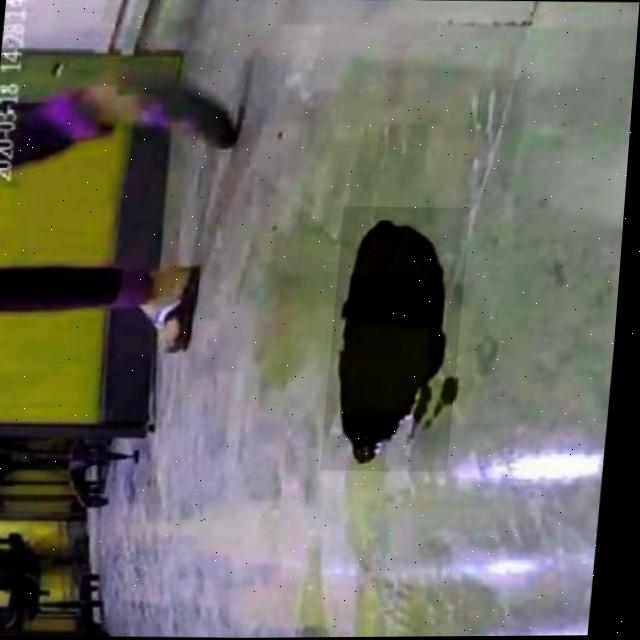spillage: (334, 207, 466, 470)
